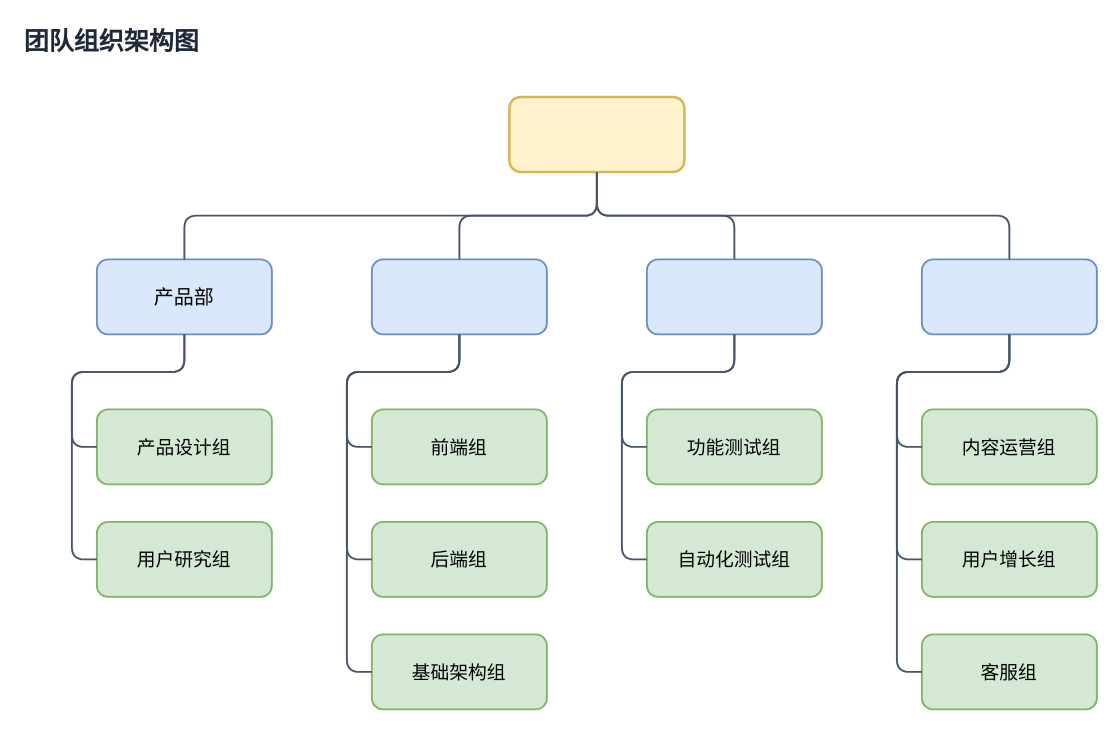
The diagram is 1119 pixels wide and 731 high, and some of its shapes have lost their labels. The shapes that lost their labels are listed below. From the top down, each one's centre as x and y in pixels, then its label:
point 596,133: CEO
point 458,296: 研发部
point 733,296: 测试部
point 1008,296: 运营部
